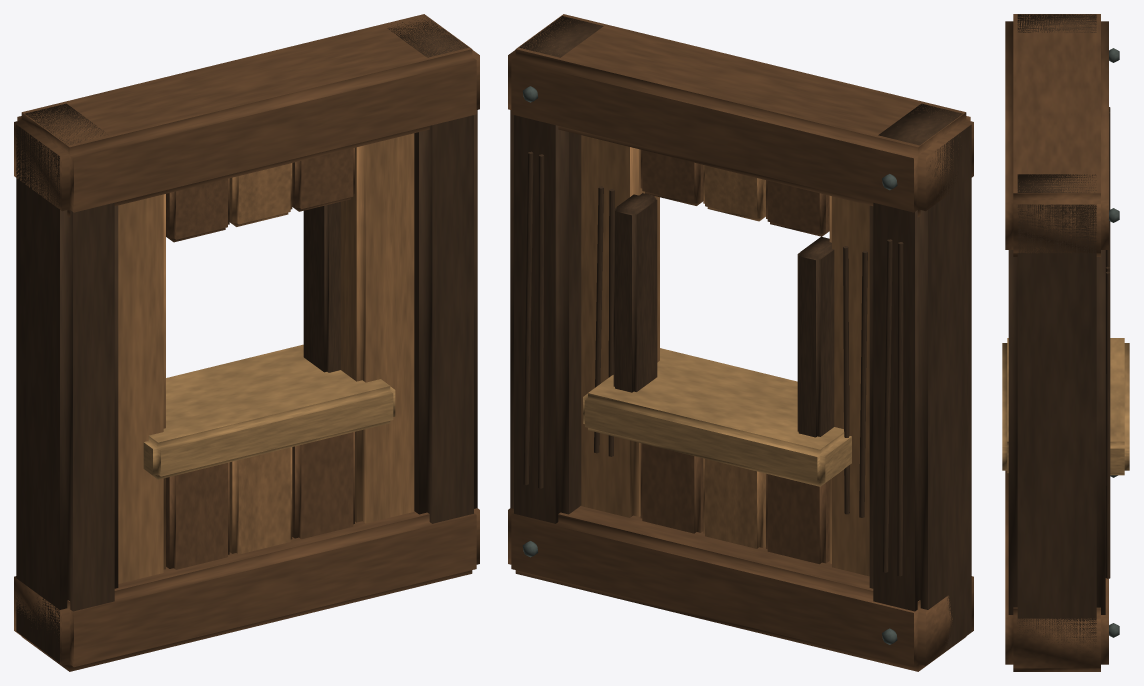
Rendered from window-wall-2.fbx.
The picture shows the model from 3 angles, left to right: view 1: azimuth 30°, elevation 25°; view 2: azimuth 150°, elevation 25°; view 3: azimuth 270°, elevation 25°; orthographic projection. The views are drawn at different scales.
Visible parts, largest first — view 1: window-wall-2__Geometry; view 2: window-wall-2__Geometry; view 3: window-wall-2__Geometry.
Part boxes in pixels (bbox=[...]): window-wall-2__Geometry: bbox=[14, 14, 479, 671]; window-wall-2__Geometry: bbox=[508, 14, 973, 671]; window-wall-2__Geometry: bbox=[1002, 14, 1129, 671].
Size of the model in its own units: 1 by 1.2 by 0.29.
Materials: 1 (1 with a texture image).
